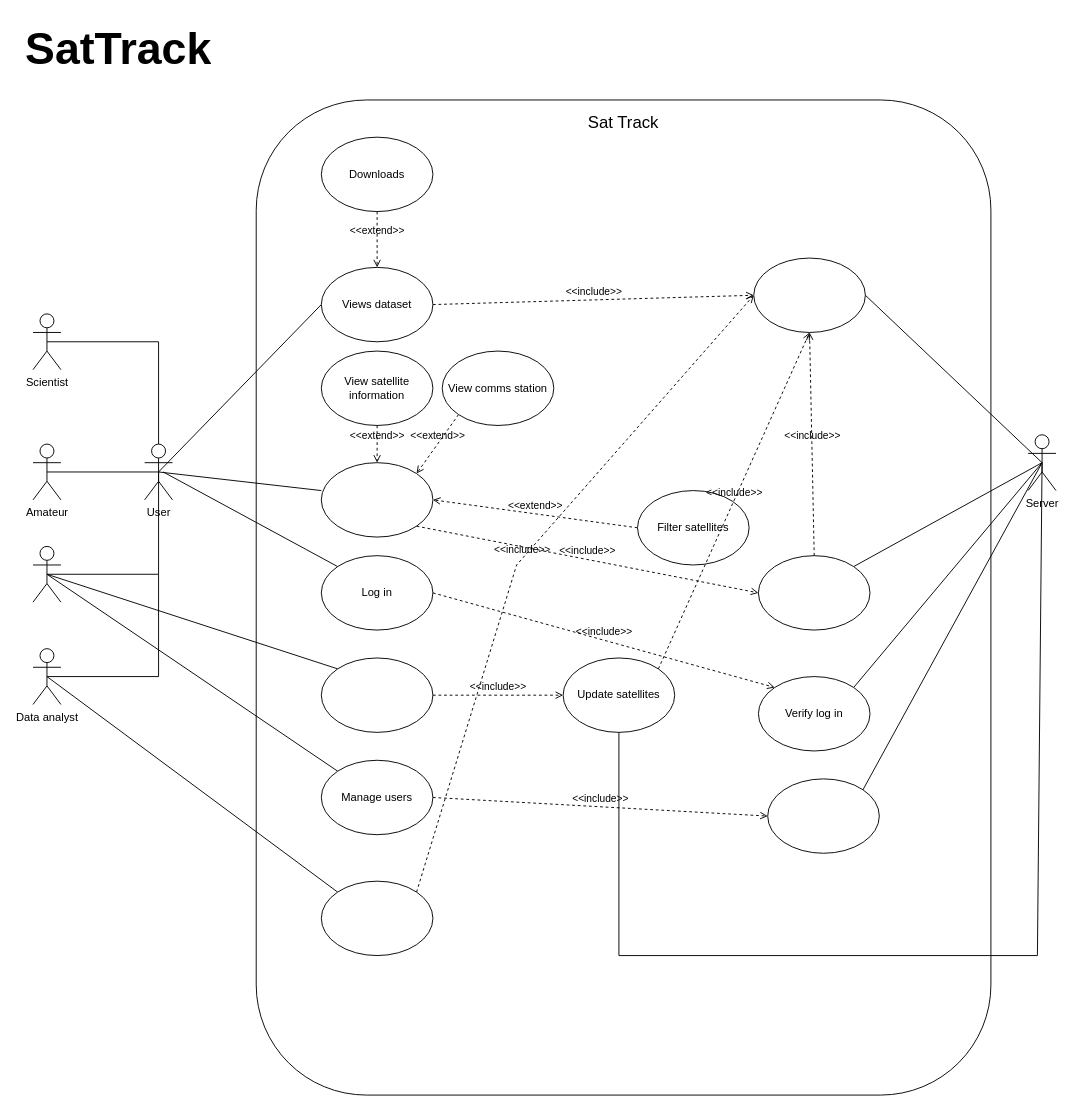
Some shapes in this 1074 by 1111 pixel diagram are drawn without their labels. The centre of each missing label's shape, as x and y in pixels:
"Admin" belongs at (46,573).
"Fetch/Update dataset" belongs at (809,294).
"Fetch/Update users" belongs at (823,815).
"Observes satellites" belongs at (376,499).
"Update satellite positions" belongs at (813,592).
"Uploads review" belongs at (376,918).
"Uploads to dataset" belongs at (376,694).
